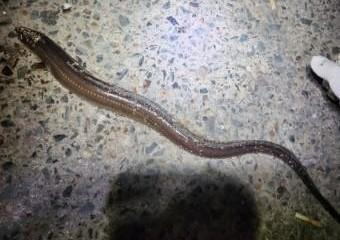fish: (14, 26, 338, 222)
